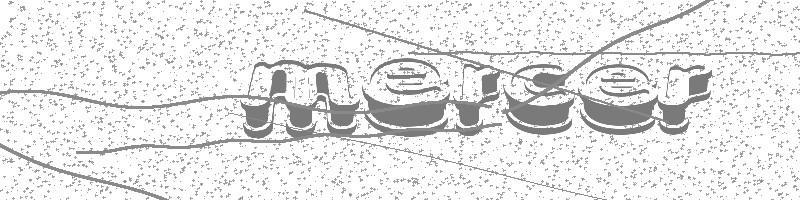c: (504, 61, 575, 136)
e: (360, 55, 452, 138), (576, 62, 660, 134)
m: (239, 57, 359, 139)
r: (654, 58, 713, 138), (454, 61, 501, 137)
